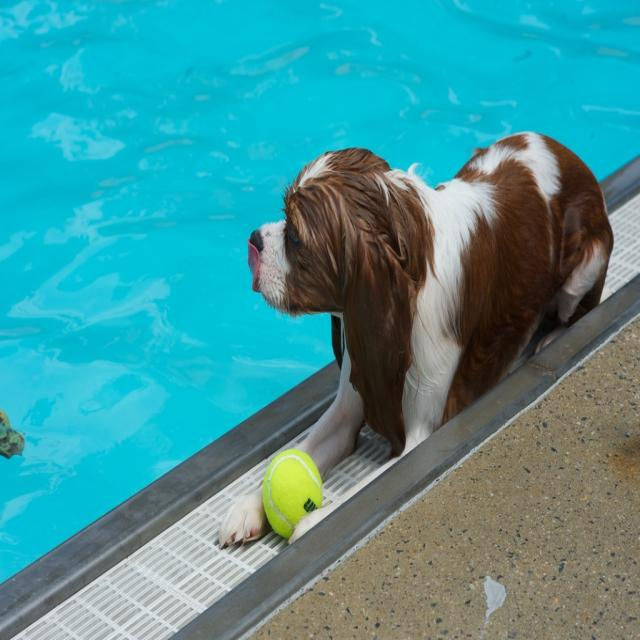Tennis ball: (260, 448, 322, 540)
